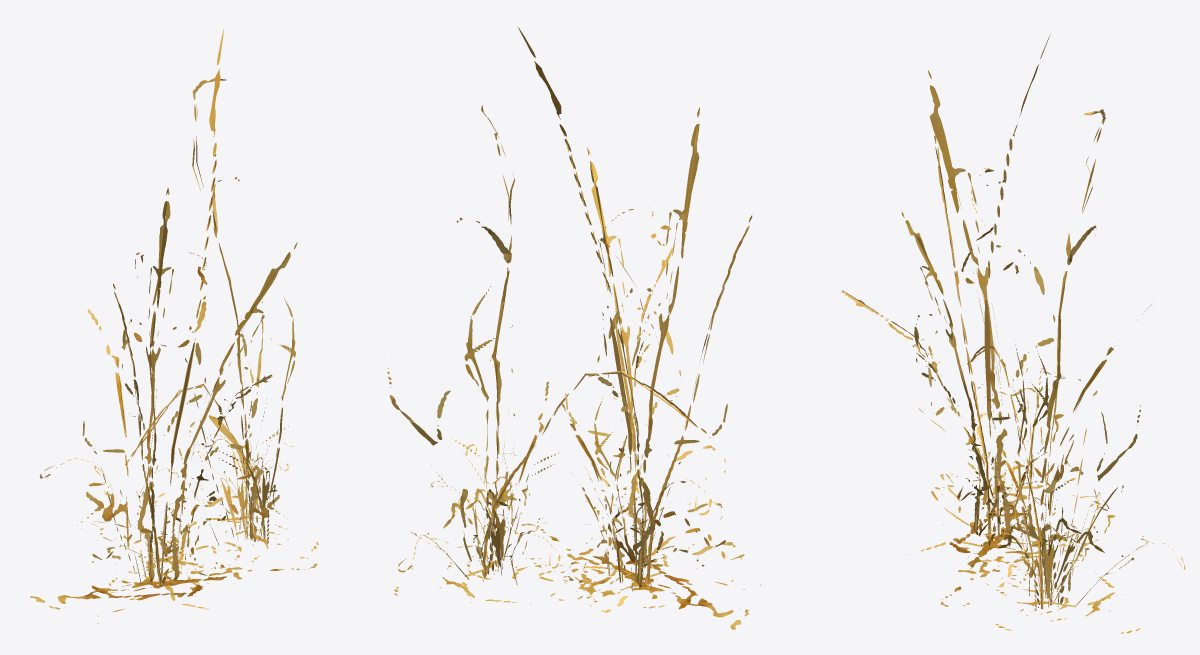
Rendered from bugday_lod2.glb.
3 views of the same model, side by side, from view 1: azimuth 30°, elevation 25°; view 2: azimuth 150°, elevation 25°; view 3: azimuth 270°, elevation 25° (orthographic). The views are drawn at different scales.
Visible parts, largest first — view 1: bugday_lod2; view 2: bugday_lod2; view 3: bugday_lod2.
Part boxes in pixels (x1,y1,x2,y2): bugday_lod2: (30,29,318,623); bugday_lod2: (387,27,761,629); bugday_lod2: (841,34,1185,633).
Bounding box in the file's own units: 0.5594 × 1 × 0.5427.
Materials: 1 (1 with a texture image).
